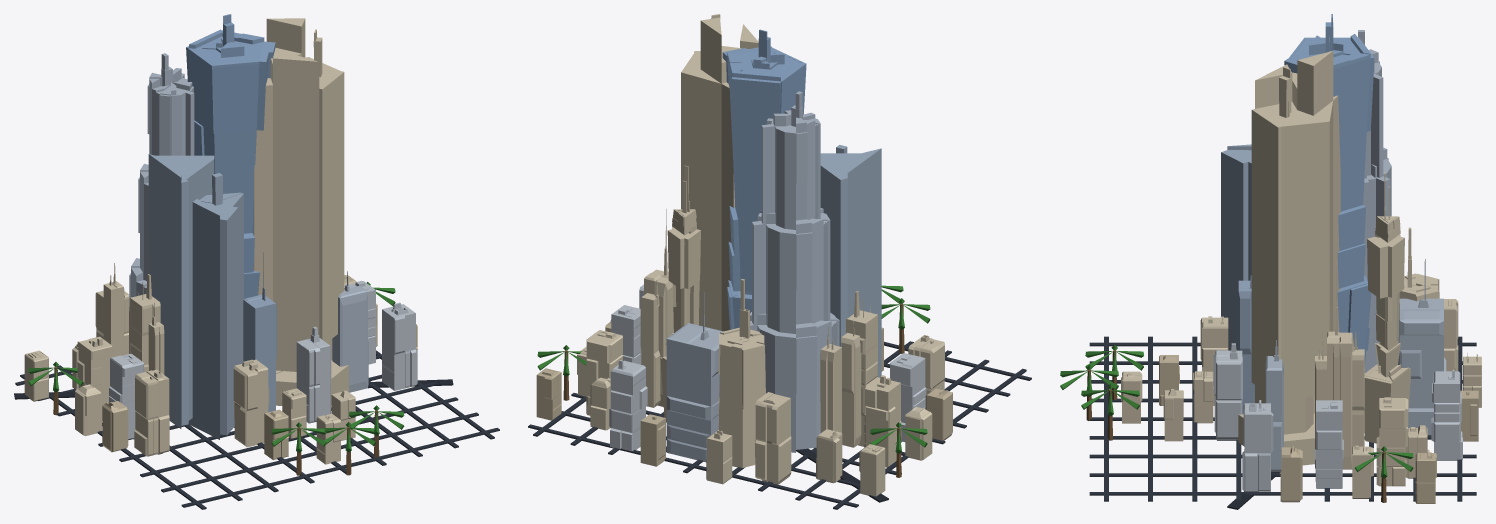
Rendered from city_la.glb.
3 views of the same model, side by side, from view 1: azimuth 30°, elevation 25°; view 2: azimuth 150°, elevation 25°; view 3: azimuth 270°, elevation 25° (orthographic). The views are drawn at different scales.
Visible parts, largest first — view 1: city; view 2: city; view 3: city.
Boxes of the visible parts, <box> form: city: <box>14,14,499,509</box>; city: <box>528,14,1031,509</box>; city: <box>1060,14,1481,509</box>.
Size of the model in its own units: 10.78 by 10.5 by 10.02.
